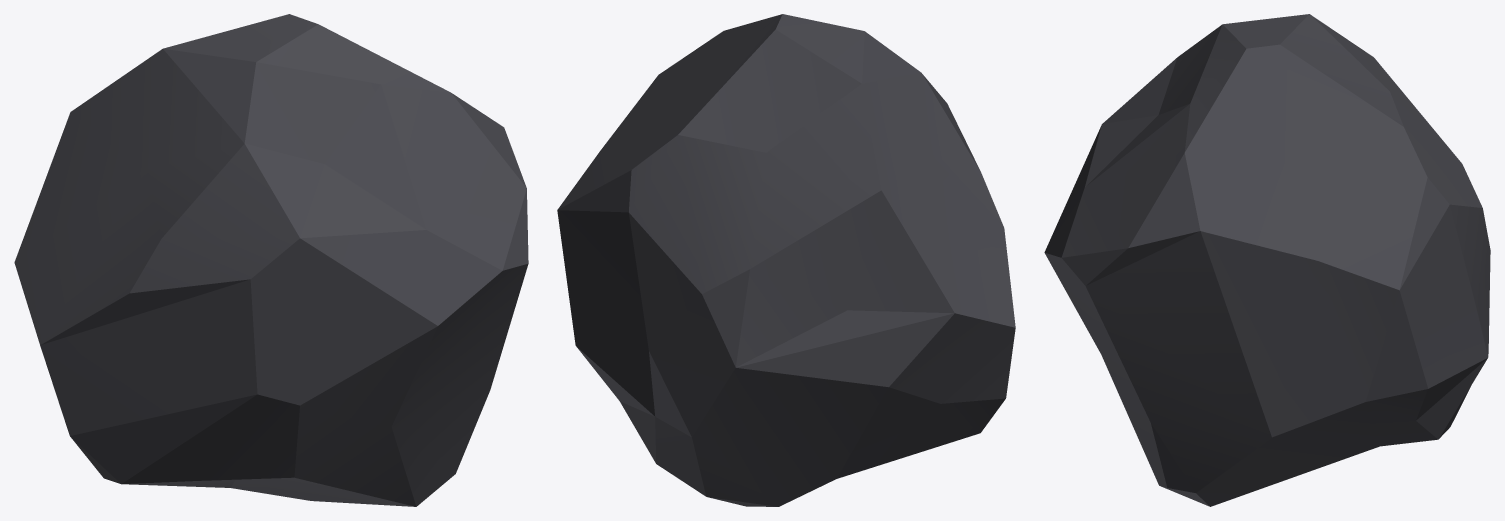
File: Environment_Rock2.fbx
The picture shows the model from 3 angles, left to right: view 1: azimuth 30°, elevation 25°; view 2: azimuth 150°, elevation 25°; view 3: azimuth 270°, elevation 25°; orthographic projection. The views are drawn at different scales.
Visible parts, largest first — view 1: Rock002; view 2: Rock002; view 3: Rock002.
Part boxes in pixels (bbox=[...]): Rock002: bbox=[14, 14, 528, 506]; Rock002: bbox=[557, 14, 1015, 506]; Rock002: bbox=[1044, 14, 1490, 506].
Size of the model in its own units: 240 by 241 by 256.
